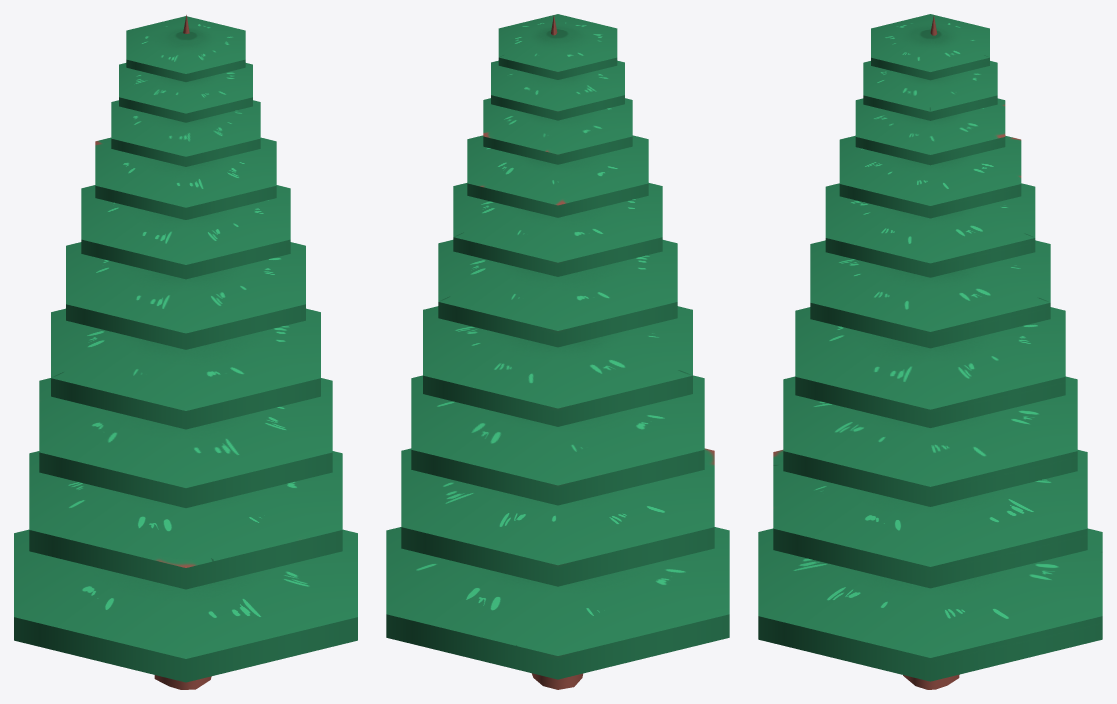
Rendered from cc_tree.FBX.
3 renders of one model, left to right at view 1: azimuth 30°, elevation 25°; view 2: azimuth 150°, elevation 25°; view 3: azimuth 270°, elevation 25°, orthographic.
Visible parts, largest first — view 1: Foliage001; view 2: Foliage001; view 3: Foliage001.
Boxes of the visible parts, x1,y1,x2,y2 form: Foliage001: [14, 15, 357, 689]; Foliage001: [386, 14, 729, 689]; Foliage001: [758, 14, 1102, 689].
Size of the model in its own units: 34.95 by 64.39 by 30.27.
